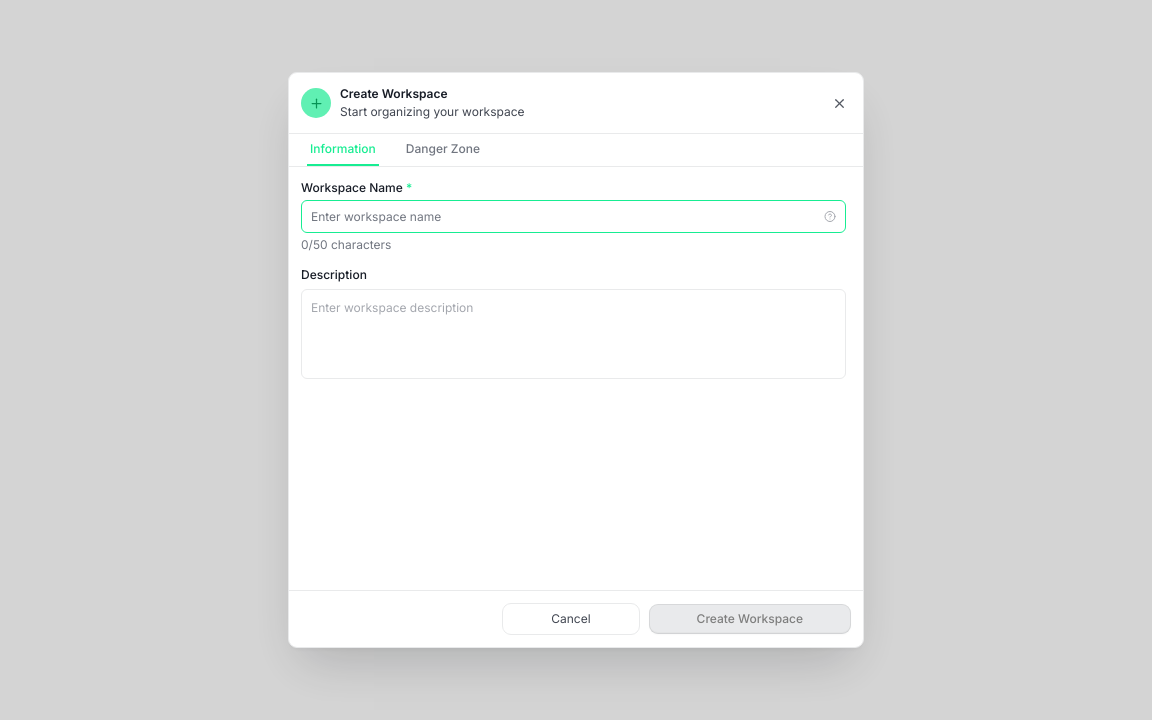
Test case: CreateWorkspaceModal › edit mode › switches to danger zone tab
Click the button "Danger Zone". click: (443, 150)
box: [403, 134, 483, 166]
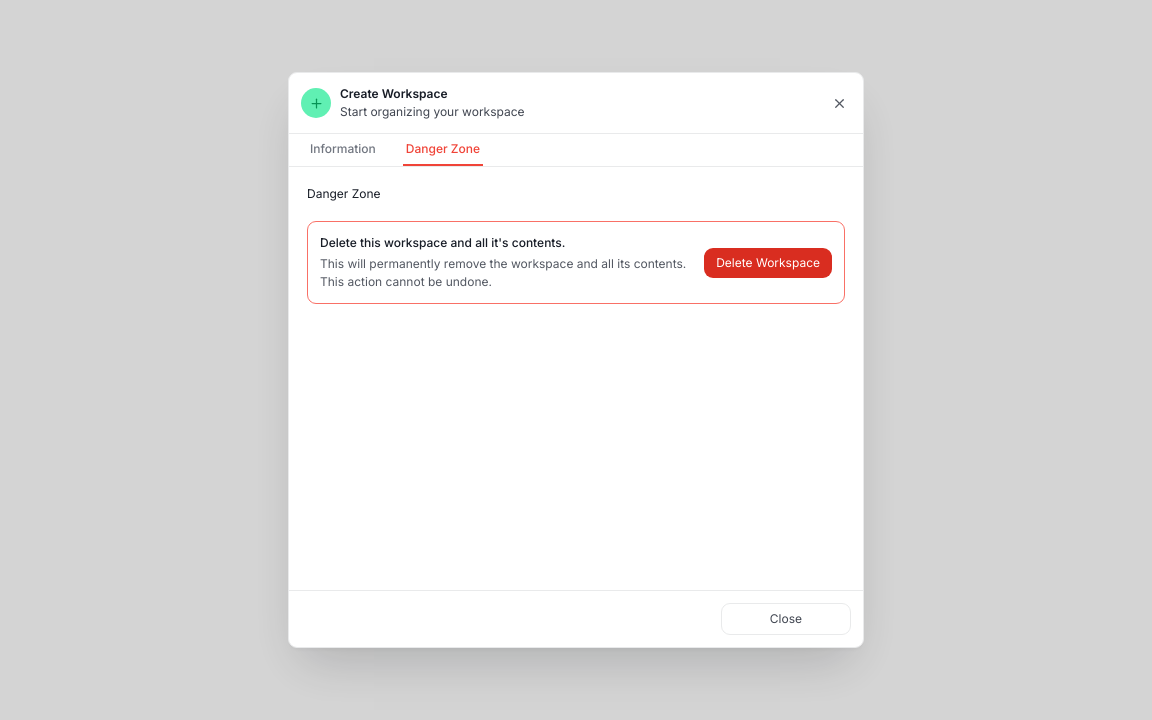
Result: the heading "Delete this workspace and all it's contents." is shown at [320, 235, 565, 250]
